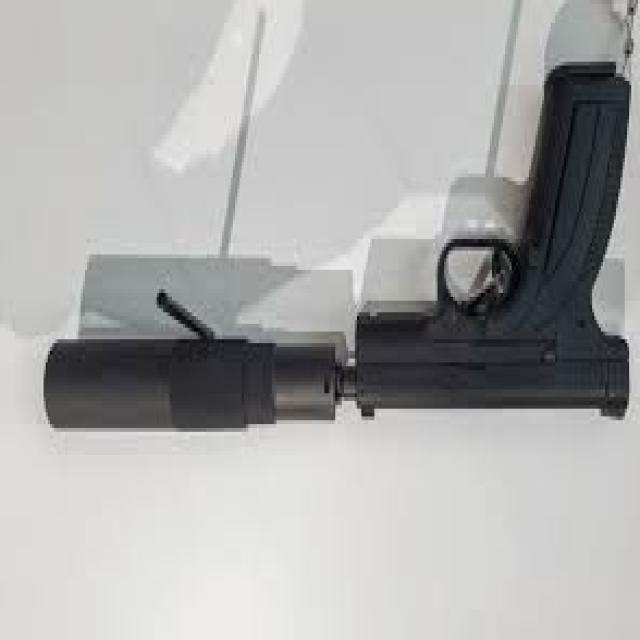Gun: (35, 16, 640, 482)
